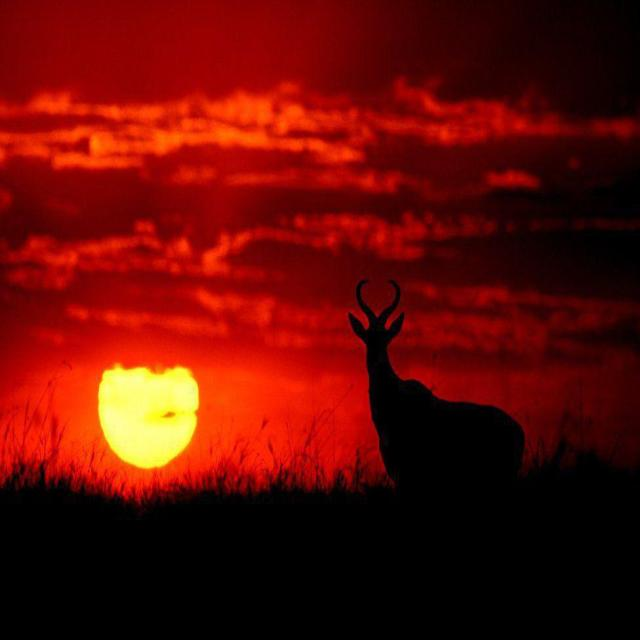other: (88, 338, 211, 471)
